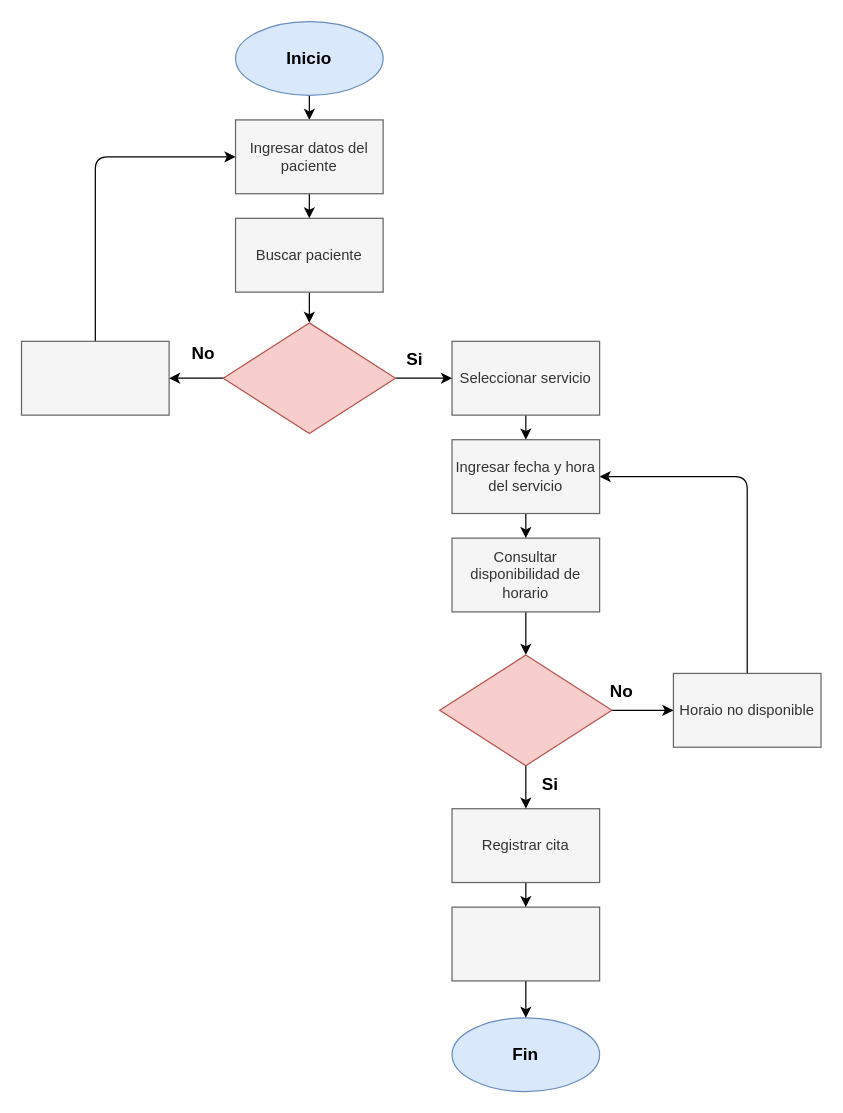
Image size: 843x1113. Some labels were removed from this diagram. Each missing label, with the centre of its shape:
Confirmar cita: the point at 525,943
Paciente no encontrado: the point at 94,377
¿Horario disponible?: the point at 525,710
¿Paciente existe?: the point at 308,378
